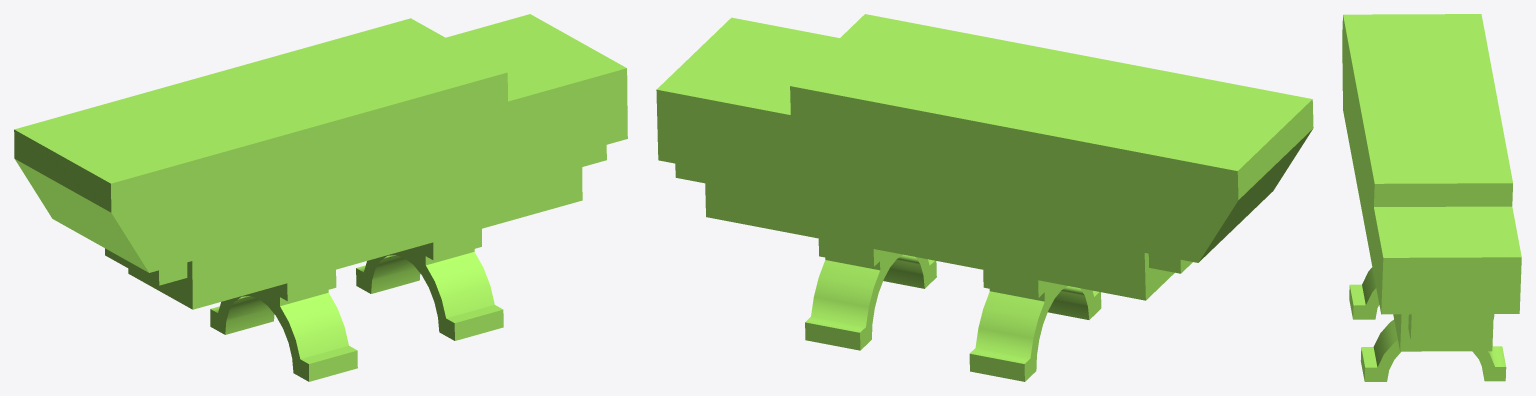
The model's file is original-17.obj.
The picture shows the model from 3 angles, left to right: view 1: azimuth 30°, elevation 25°; view 2: azimuth 150°, elevation 25°; view 3: azimuth 270°, elevation 25°; orthographic projection. The views are drawn at different scales.
Parts seen in each view (by area): view 1: Group16/mesh29/mesh29-geometry#mesh29-geometry; view 2: Group16/mesh29/mesh29-geometry#mesh29-geometry; view 3: Group16/mesh29/mesh29-geometry#mesh29-geometry.
Part boxes in pixels (x1,y1,x2,y2): Group16/mesh29/mesh29-geometry#mesh29-geometry: (14, 14, 627, 381); Group16/mesh29/mesh29-geometry#mesh29-geometry: (656, 14, 1313, 381); Group16/mesh29/mesh29-geometry#mesh29-geometry: (1342, 14, 1521, 381).
Bounding box in the file's own units: 0.2295 × 0.1022 × 0.0792.
